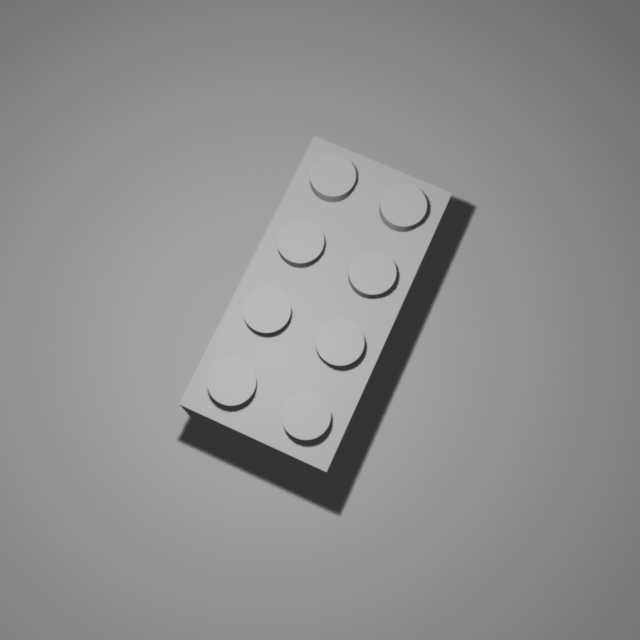lego_2x4: (176, 129, 454, 481)
